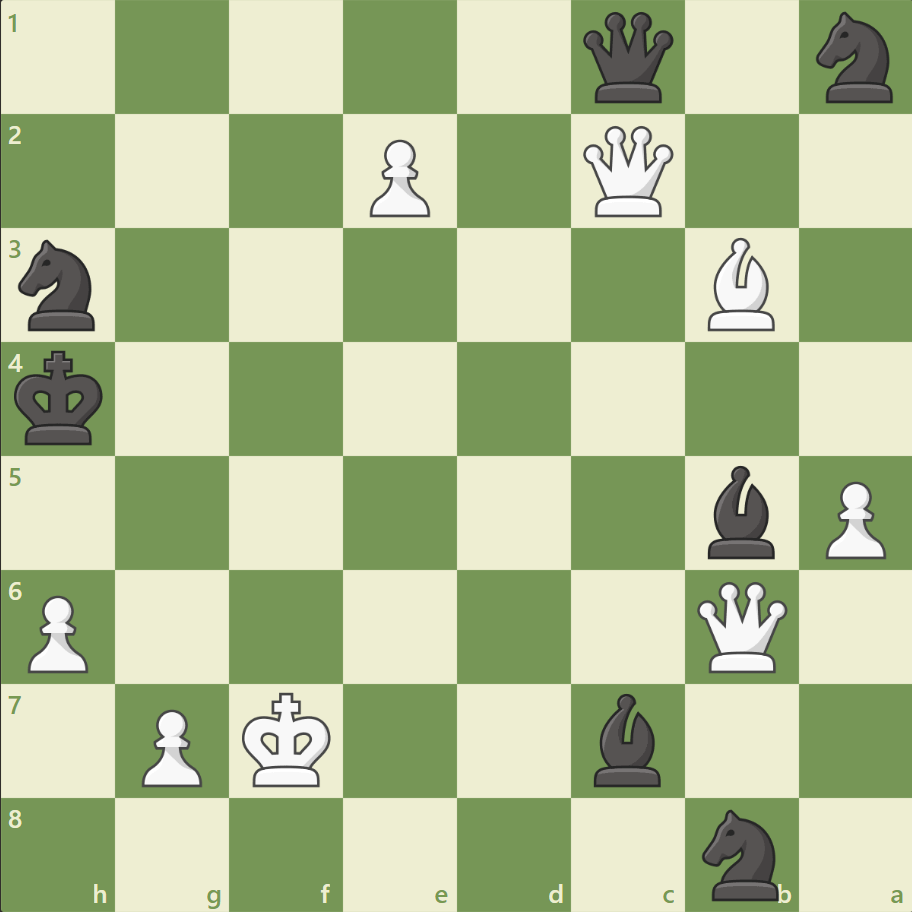B: (698, 233, 782, 336)
K: (238, 685, 338, 793)
P: (133, 700, 208, 791), (20, 586, 95, 677), (815, 473, 889, 564), (361, 132, 435, 223)
Q: (691, 576, 790, 676), (578, 122, 677, 222)
b: (585, 687, 669, 790), (698, 460, 782, 563)
k: (11, 344, 111, 452)
n: (11, 234, 108, 337), (806, 7, 903, 110), (692, 802, 789, 904)
q: (578, 9, 677, 108)
